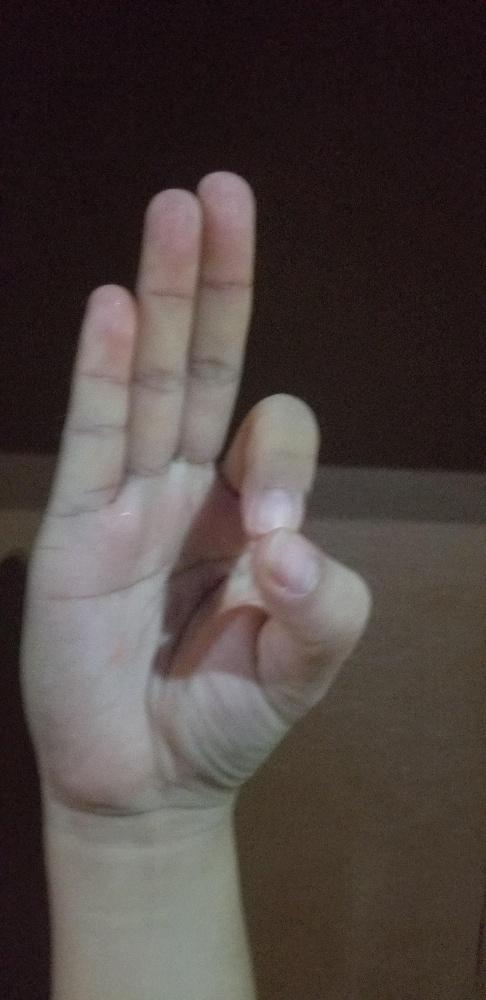f: (18, 169, 373, 800)
